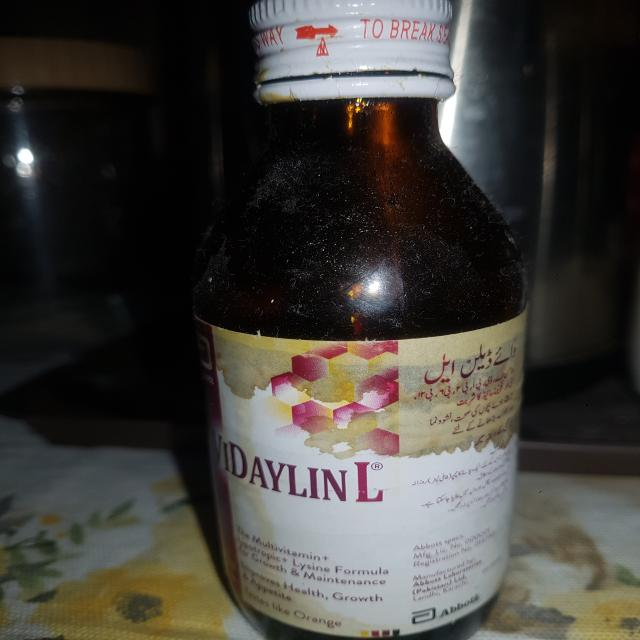electronic: (194, 0, 533, 640)
